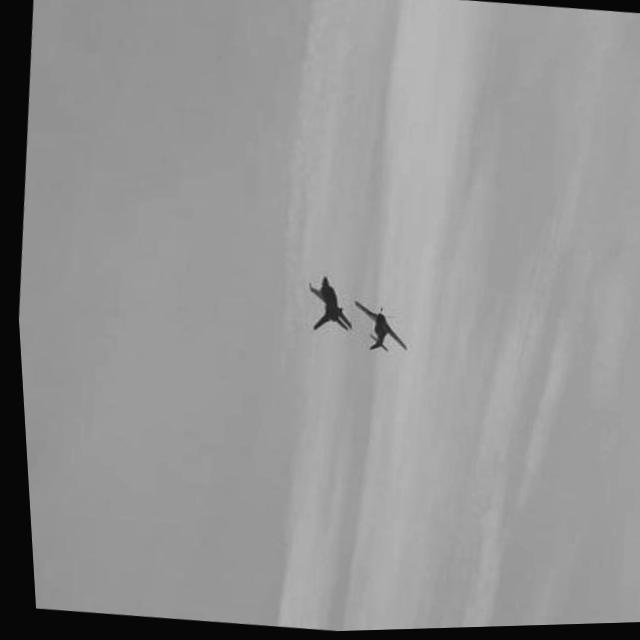aeroplane: (285, 269, 359, 340), (339, 290, 410, 362)
